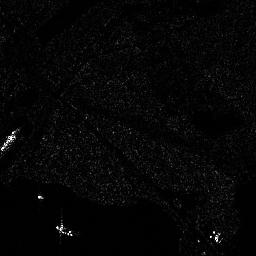ship: (1, 126, 21, 154), (54, 223, 75, 238)
